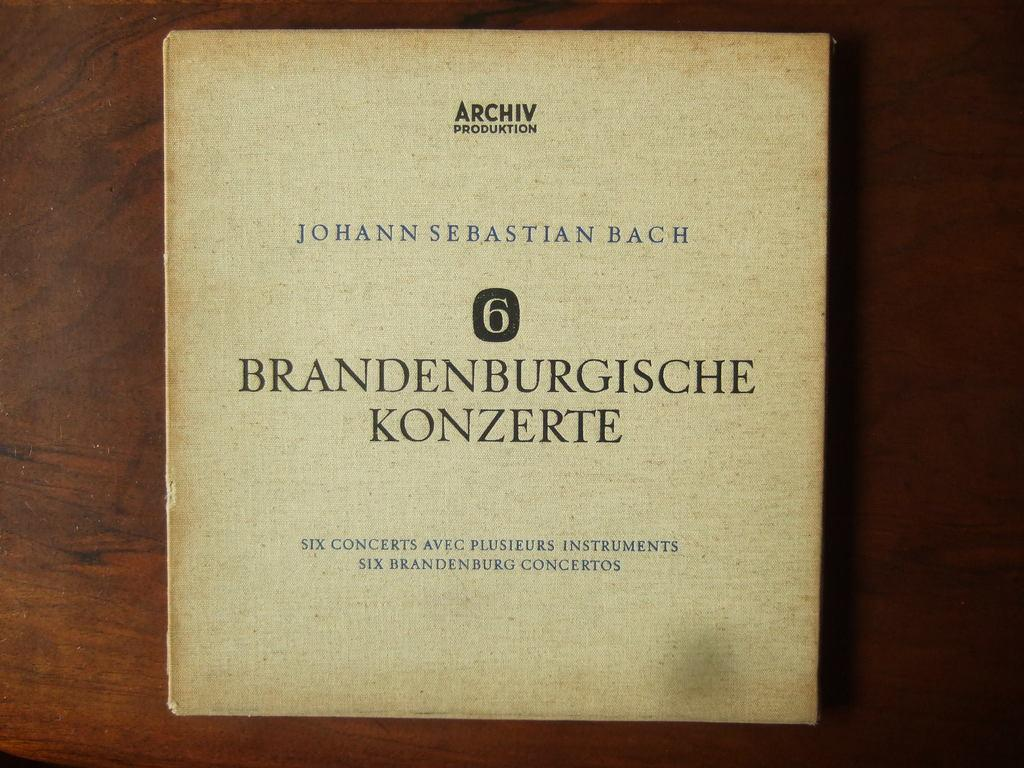book: (176, 25, 898, 739)
